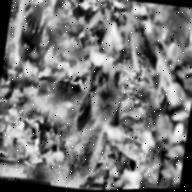boar: (13, 52, 137, 192)
